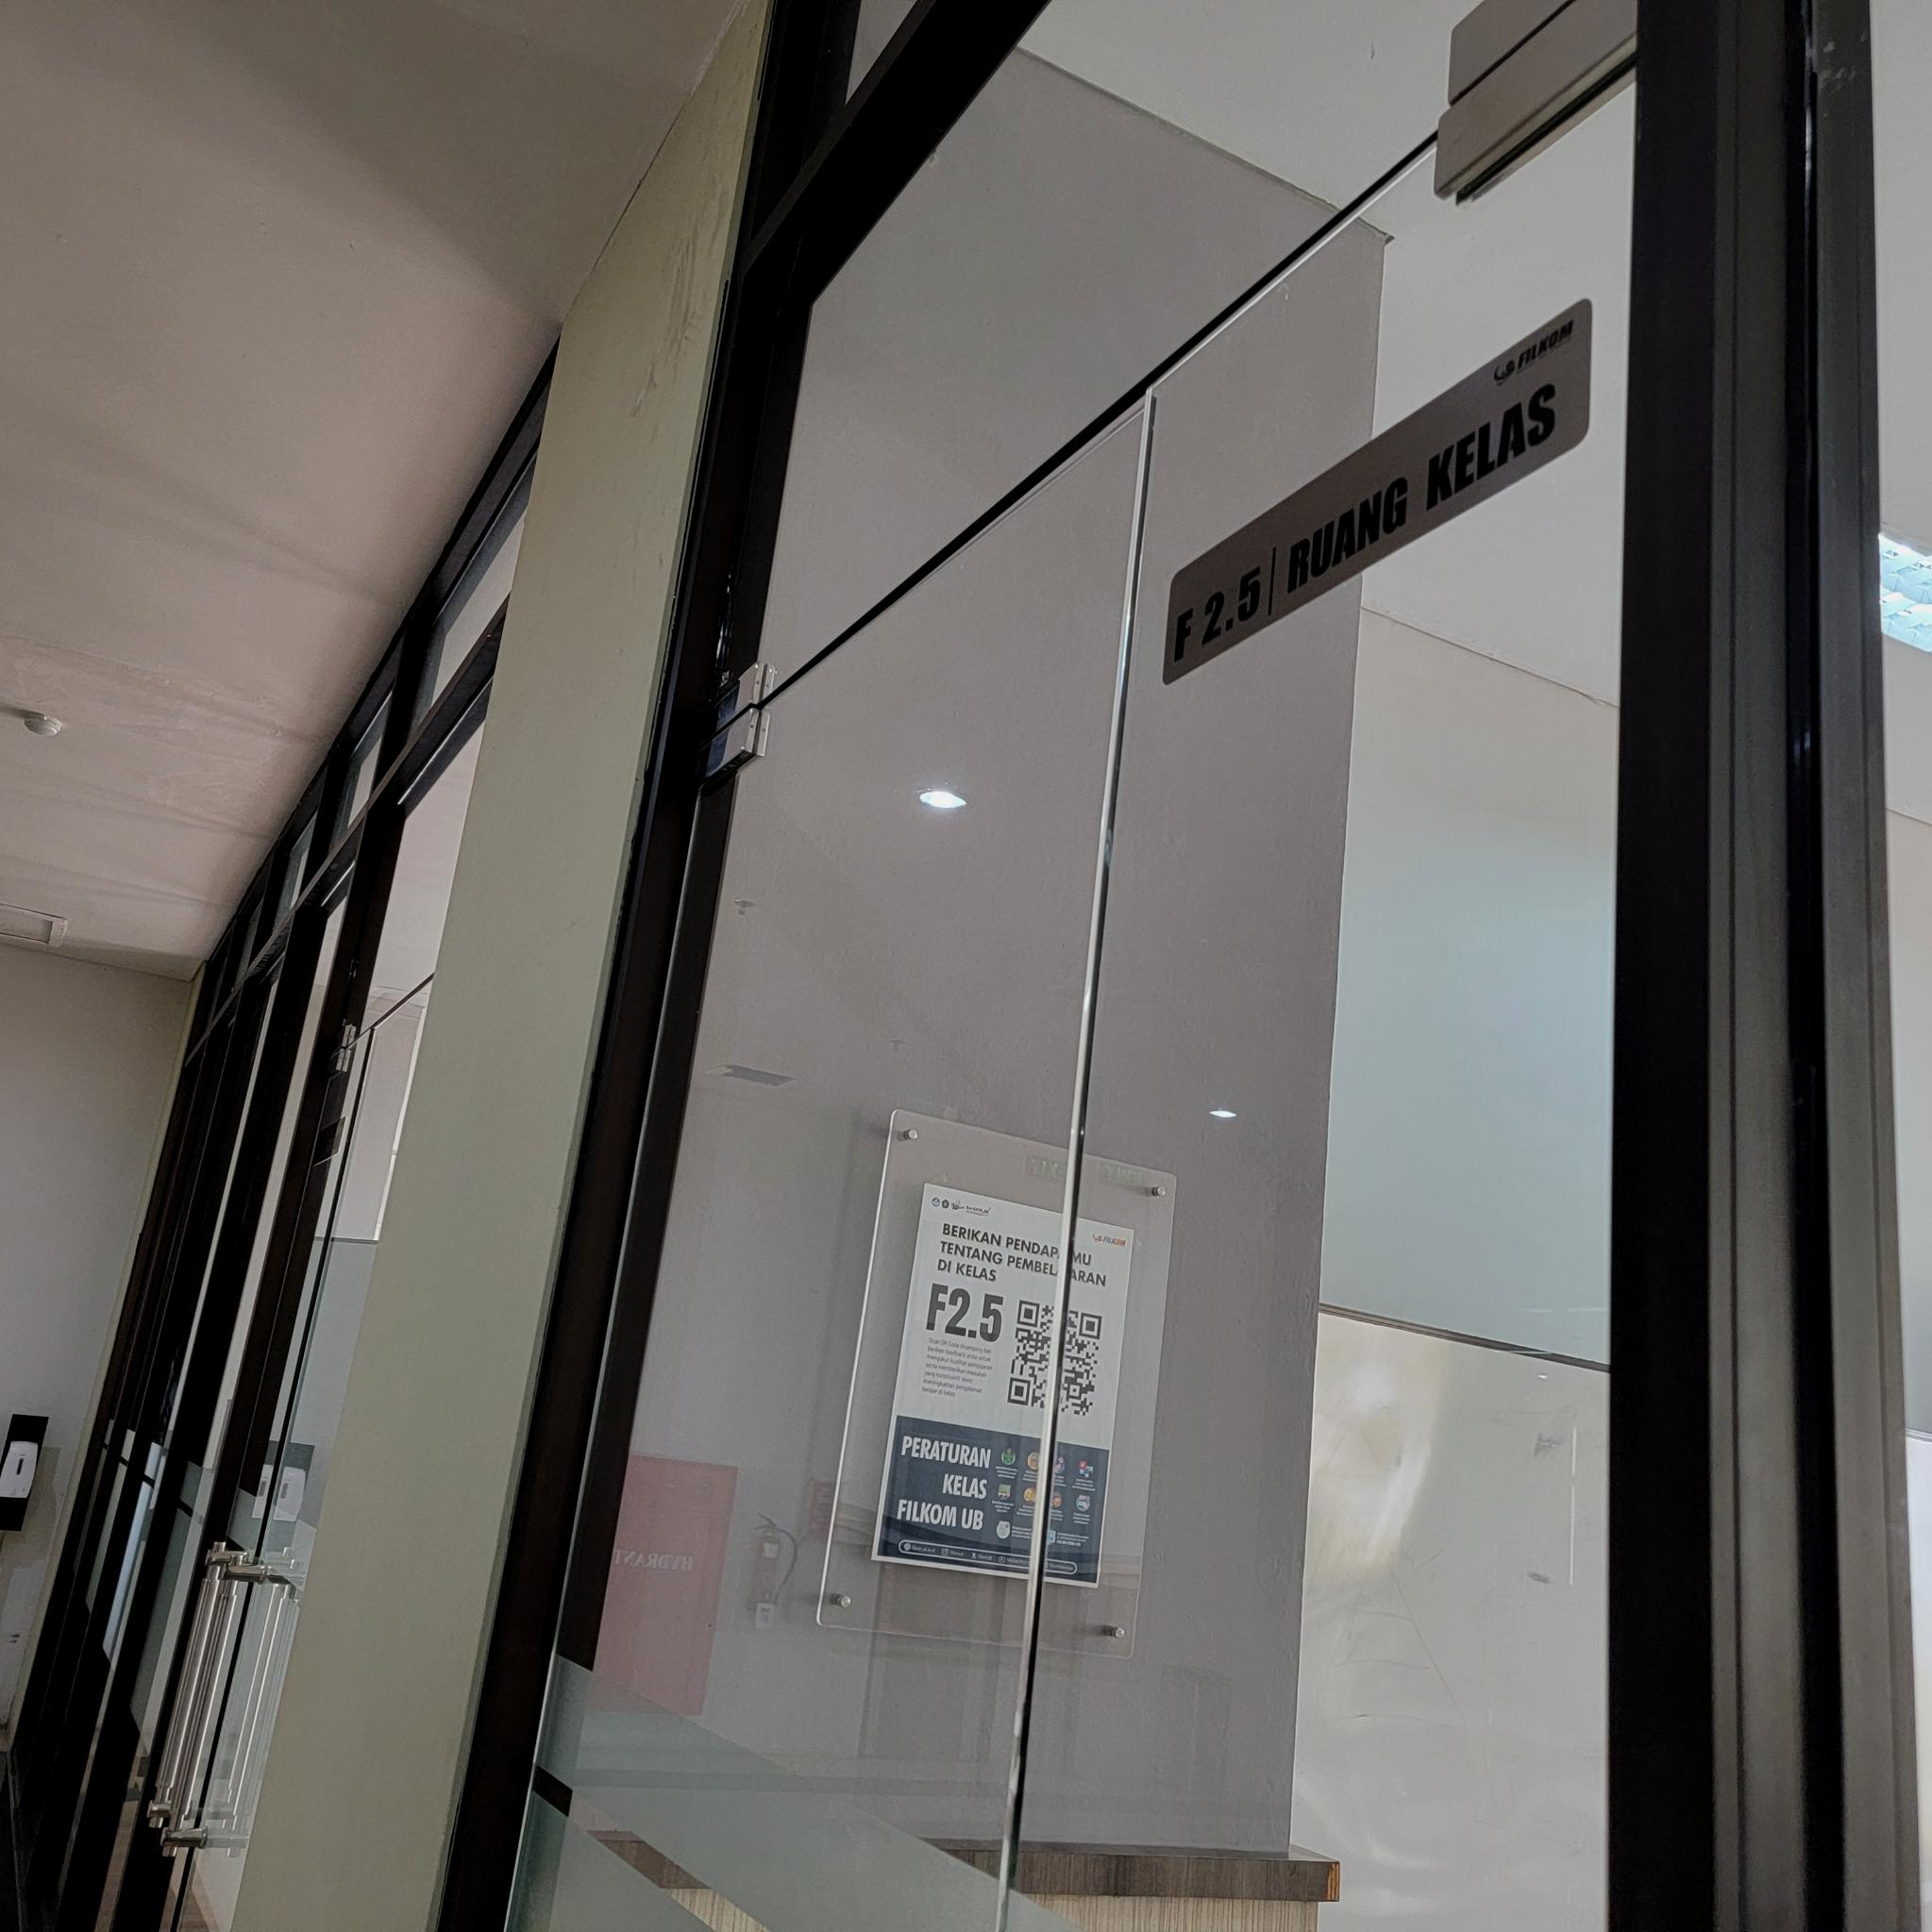plate: (1161, 294, 1594, 688)
